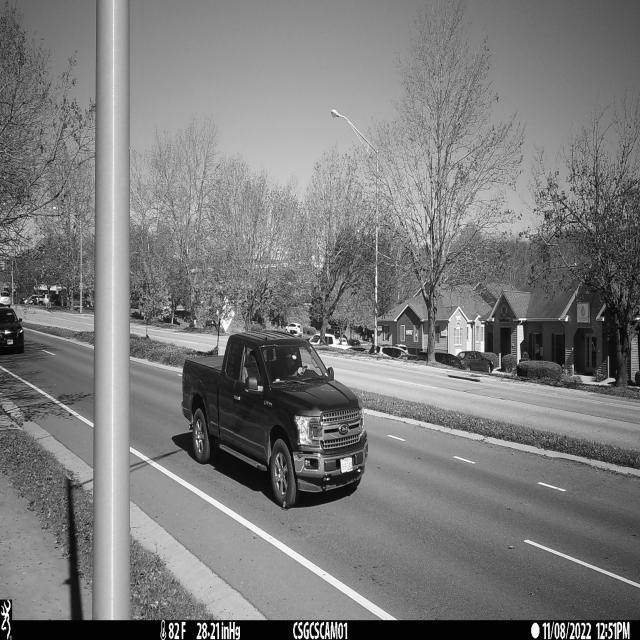Pickup: (182, 331, 369, 510)
